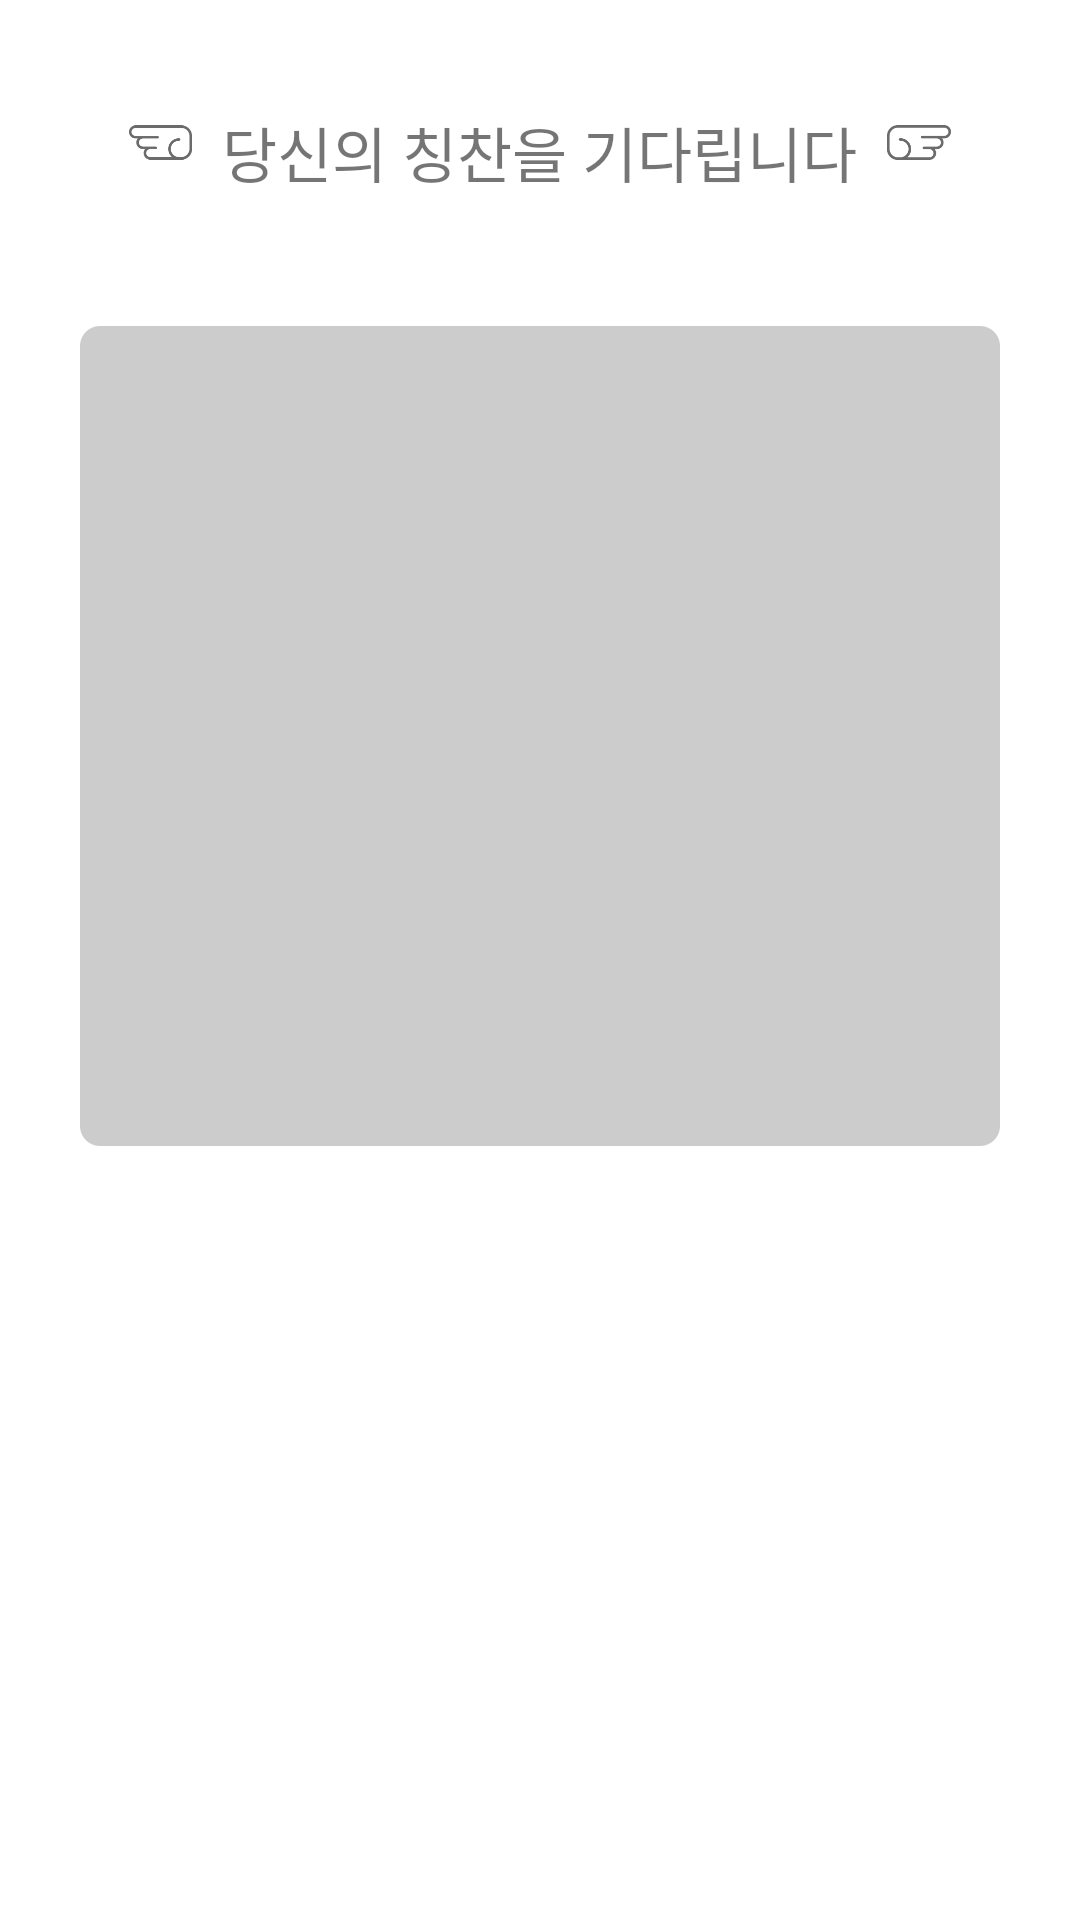

Named icons in this screenshot (1080×1920) and their bounding boxes, [x1=x1, y1=y1, x2=x2, y2=y2]:
wing left: [x1=129, y1=125, x2=192, y2=160]
wing right: [x1=887, y1=125, x2=951, y2=160]
